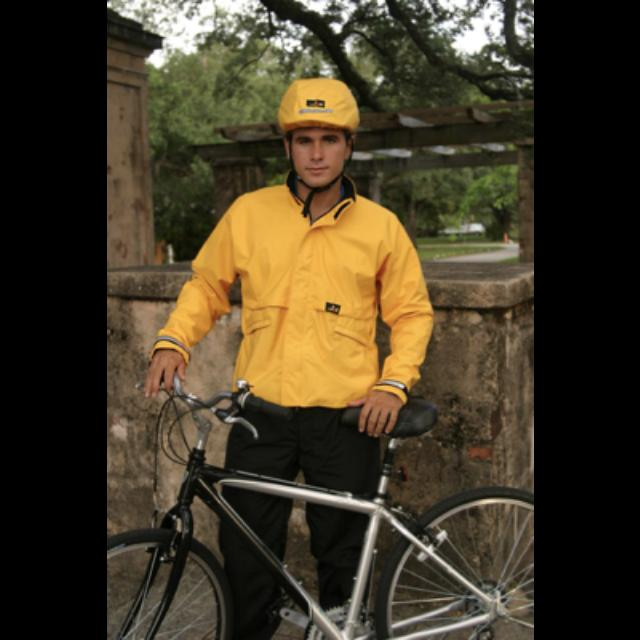With Helmet: (262, 64, 378, 204)
